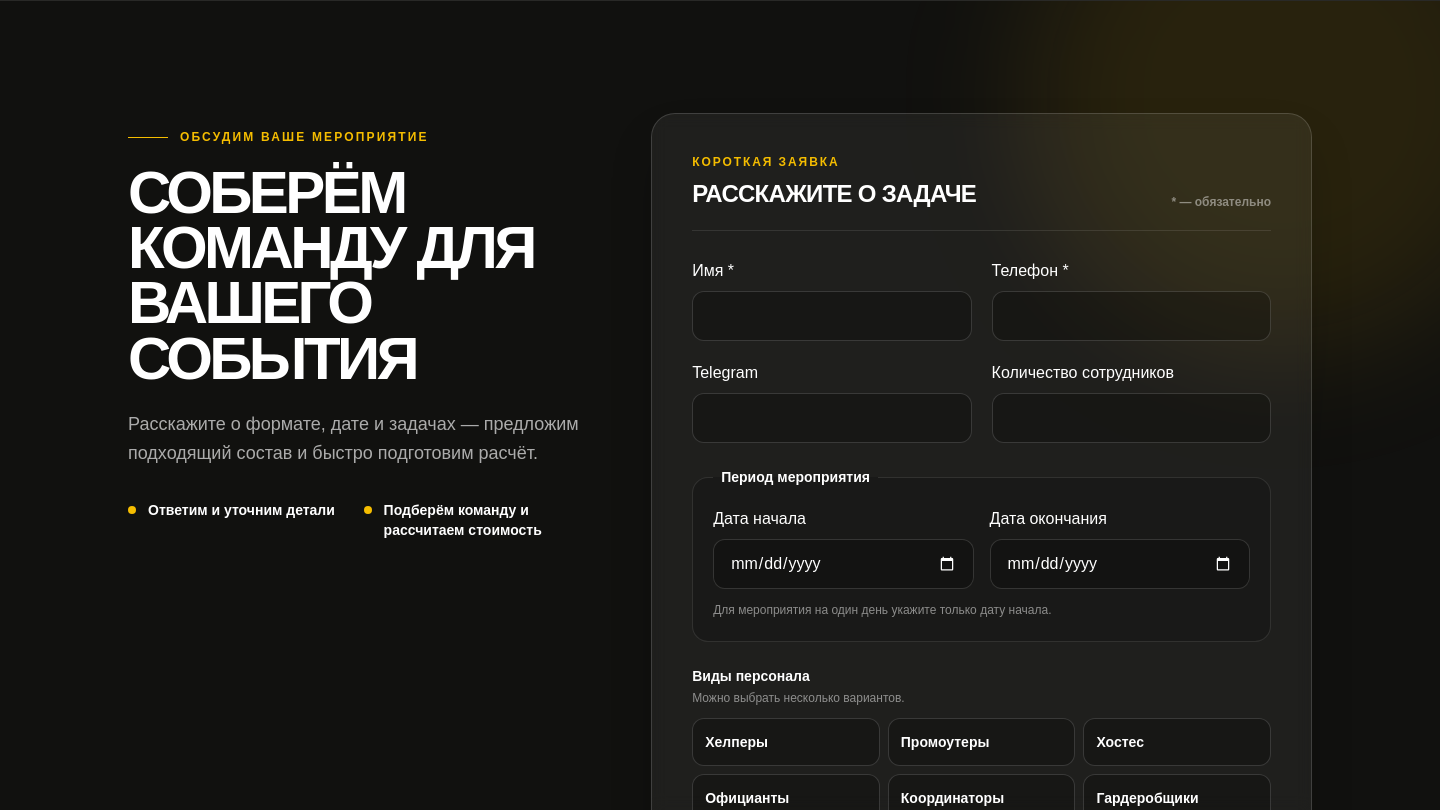
Test: ContactForm › rejects a phone with fewer than ten digits
Type "Иван" into the field labelled "Имя" at (832, 316), box x1=692 y1=291 x2=972 y2=341
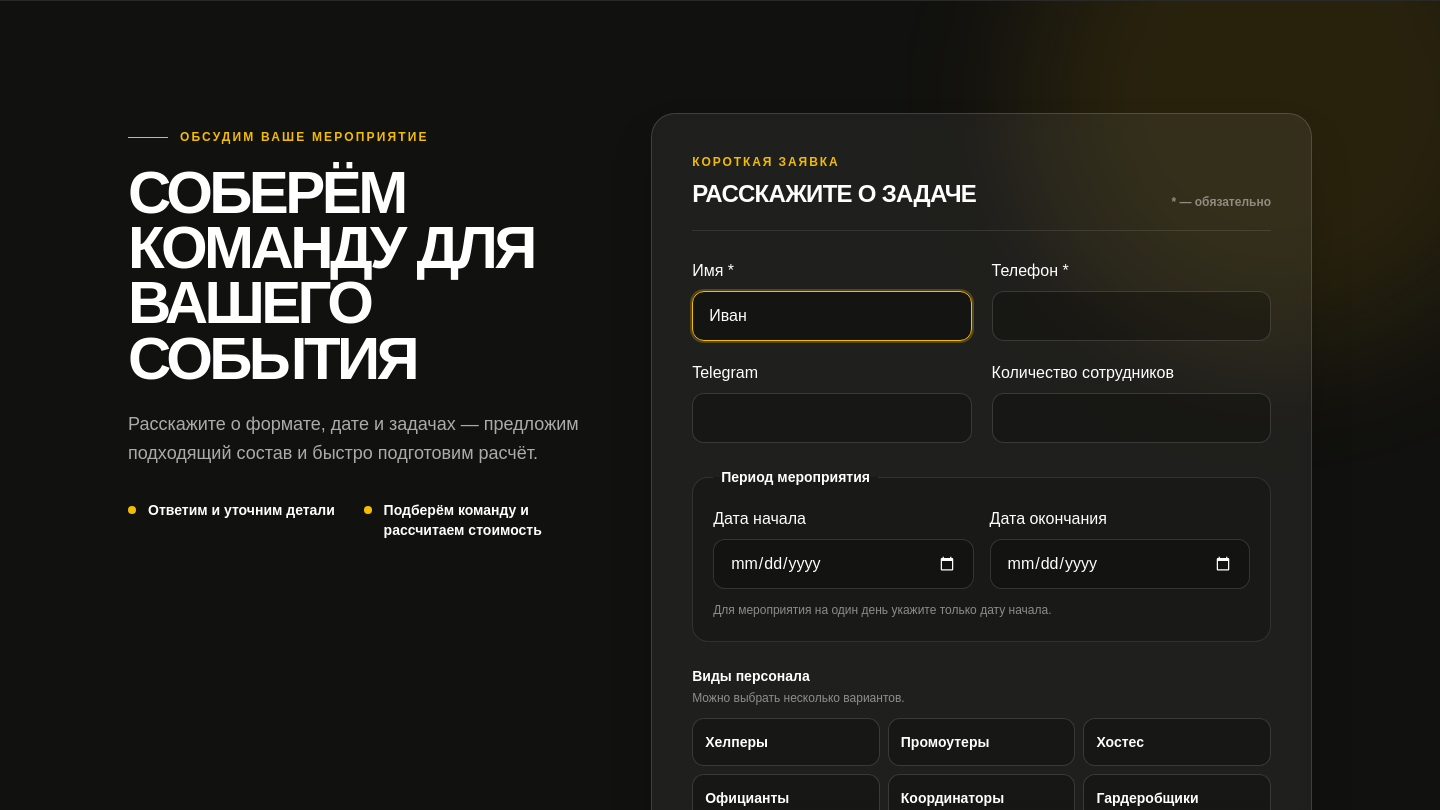
Type "123" into the field labelled "Телефон" at (1131, 316), box x1=992 y1=291 x2=1271 y2=341
(page scrolled)
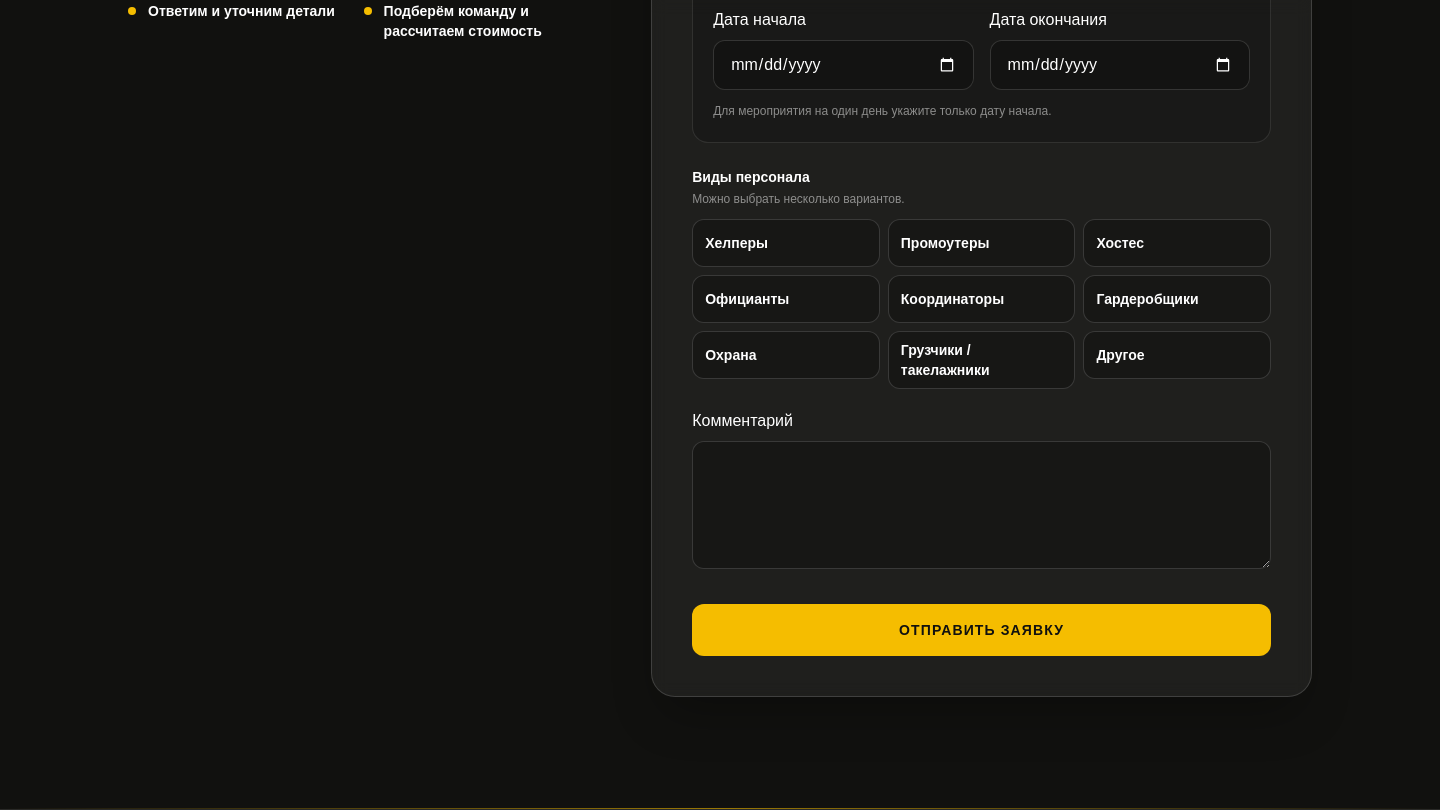
Click the button "Отправить заявку" at (982, 630), box x1=692 y1=604 x2=1271 y2=656
(page scrolled)
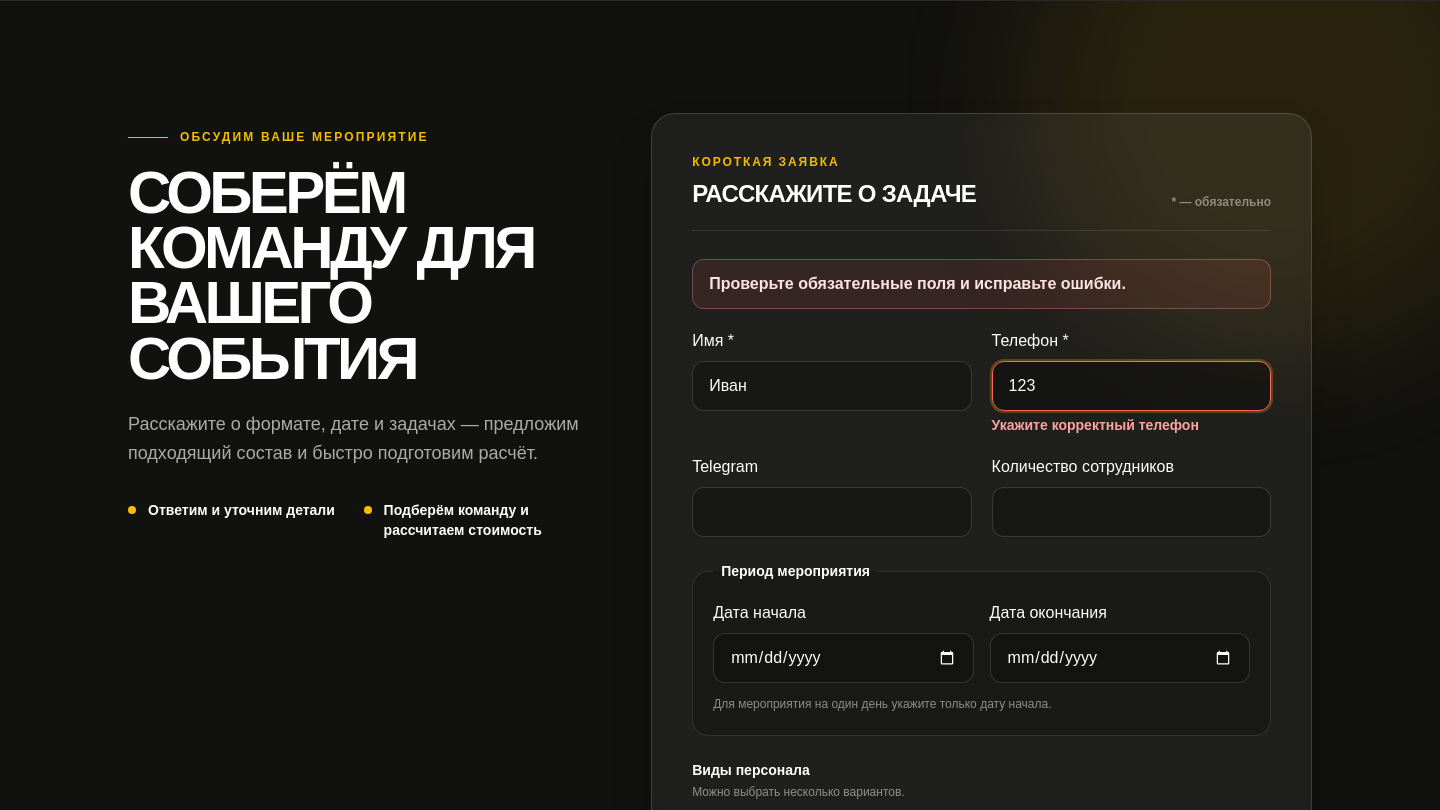
expect the field labelled "Телефон" is marked as invalid: met, box x1=992 y1=361 x2=1271 y2=411
